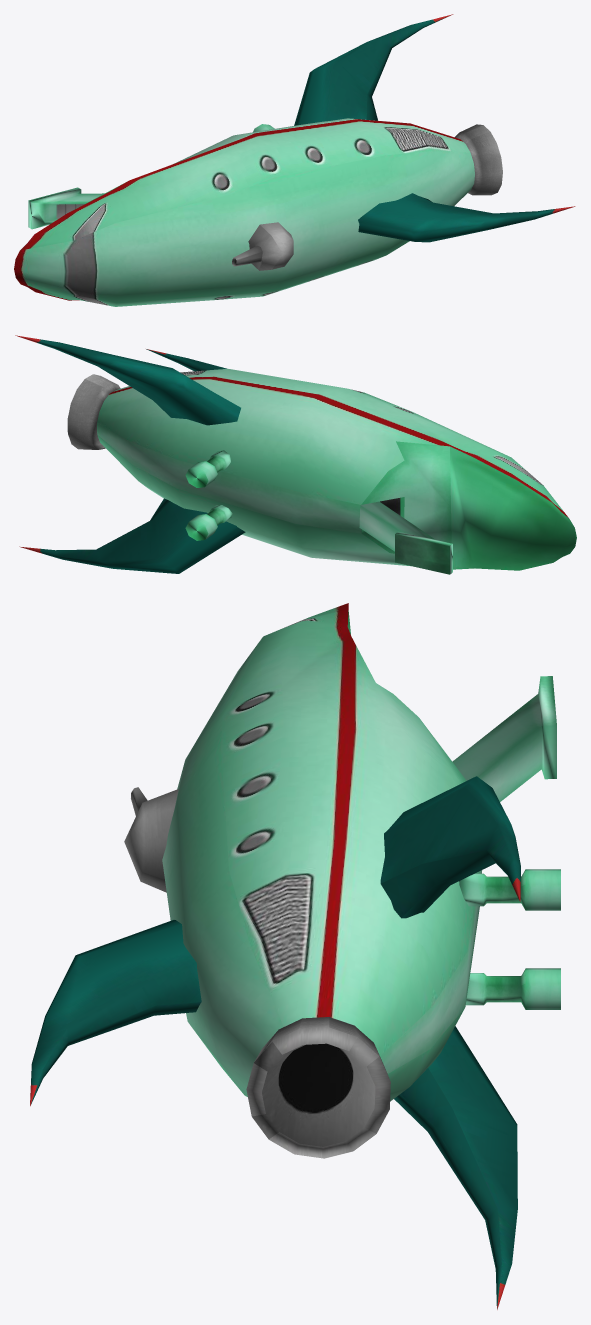
File: PlanetExShip.obj
The picture shows the model from 3 angles, top to bottom: view 1: azimuth 30°, elevation 25°; view 2: azimuth 150°, elevation 25°; view 3: azimuth 270°, elevation 25°; orthographic projection. The views are drawn at different scales.
Parts seen in each view (by area): view 1: Cylinder34, Box24; view 2: Cylinder34, Box24; view 3: Cylinder34, Box24.
Part boxes in pixels (box(x1,y1,x2,y2)): Cylinder34: box(14, 118, 502, 306); Box24: box(28, 14, 575, 270); Cylinder34: box(67, 368, 576, 570); Box24: box(15, 335, 452, 574); Cylinder34: box(162, 603, 482, 1158); Box24: box(30, 676, 560, 1309).
Bounding box in the file's own units: 162 × 65.37 × 76.67.
2 materials, 2 textured.
